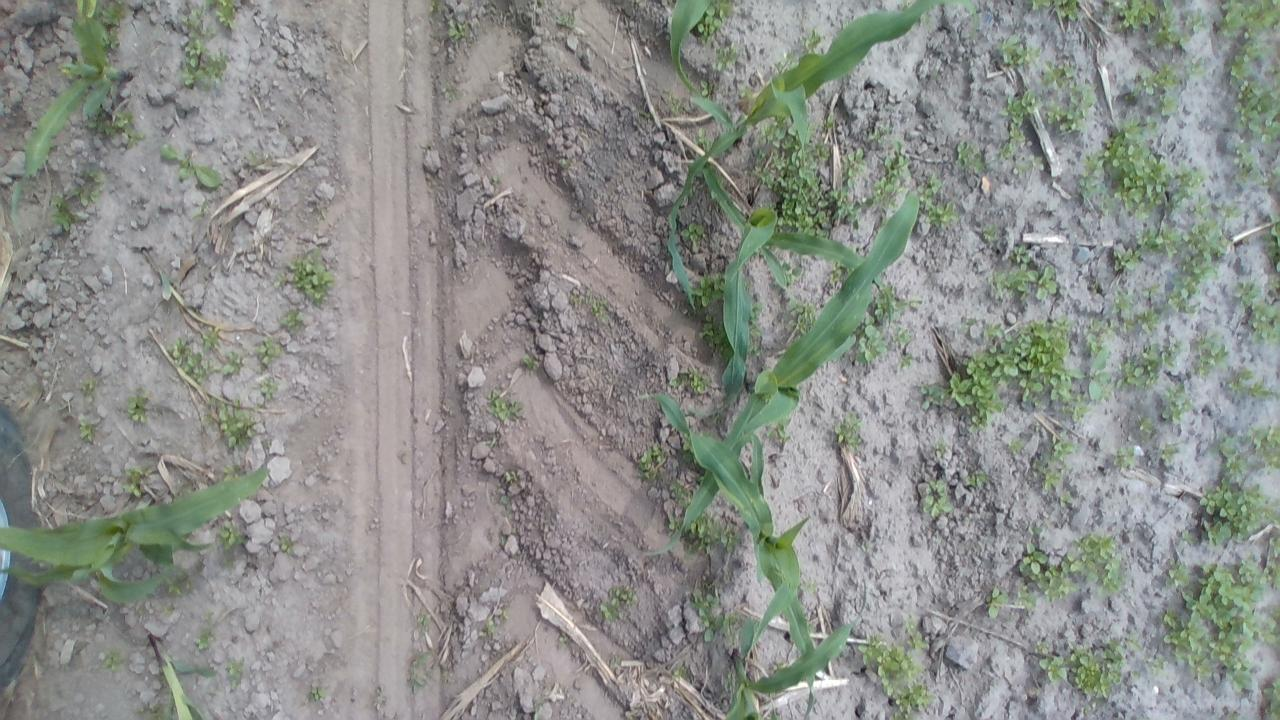Maize: (648, 189, 921, 551), (668, 0, 978, 311), (640, 394, 816, 714), (698, 166, 892, 410), (1, 458, 272, 602), (10, 0, 132, 234), (724, 620, 852, 720), (144, 330, 282, 420), (140, 248, 259, 344), (668, 0, 725, 94)
Weeds: (1160, 558, 1280, 691), (754, 117, 864, 234), (971, 320, 1070, 425), (1140, 224, 1228, 310), (1043, 534, 1125, 602), (1098, 133, 1176, 203), (1068, 637, 1142, 701), (1200, 480, 1280, 530), (182, 1, 222, 90), (1116, 342, 1186, 388), (200, 397, 258, 448), (1233, 278, 1278, 342), (162, 144, 224, 188), (1065, 350, 1119, 398), (998, 89, 1034, 159), (280, 256, 334, 300), (859, 642, 917, 682), (1048, 82, 1095, 131), (1222, 0, 1280, 39), (1239, 86, 1280, 140), (872, 144, 909, 198), (921, 371, 969, 410), (888, 683, 932, 720), (692, 592, 725, 640), (1112, 0, 1160, 31), (1234, 42, 1271, 82), (484, 389, 524, 425), (999, 37, 1039, 73), (599, 586, 636, 624), (68, 169, 104, 207), (1152, 0, 1182, 44), (1192, 341, 1228, 377), (168, 340, 206, 374), (1251, 425, 1280, 469), (918, 196, 958, 226), (1080, 320, 1115, 354), (840, 148, 870, 185), (1078, 156, 1105, 197), (702, 314, 736, 346), (923, 480, 954, 515), (1026, 267, 1058, 300), (1042, 60, 1074, 93), (1032, 0, 1080, 22), (1178, 165, 1208, 200), (1242, 158, 1278, 187), (1136, 65, 1176, 91), (1120, 112, 1160, 138), (212, 350, 244, 382), (837, 413, 868, 446), (1162, 393, 1196, 423), (691, 274, 724, 304), (876, 286, 904, 321), (955, 137, 985, 168), (696, 4, 729, 32), (1122, 309, 1160, 333), (902, 616, 929, 649), (1264, 536, 1280, 589), (1023, 540, 1049, 572), (49, 197, 73, 231), (857, 328, 885, 357), (1166, 558, 1192, 589), (640, 446, 664, 478), (126, 390, 150, 422), (1040, 655, 1067, 683), (1201, 520, 1229, 546), (227, 658, 253, 686), (253, 339, 281, 365), (1201, 435, 1233, 457), (86, 113, 130, 129), (215, 1, 241, 28), (125, 468, 148, 498), (1260, 682, 1280, 716), (1067, 393, 1090, 422), (793, 302, 818, 328), (690, 520, 714, 547), (665, 476, 689, 503), (1114, 243, 1138, 270), (1042, 467, 1064, 496), (1052, 435, 1076, 461), (1249, 378, 1280, 398), (1187, 8, 1210, 34), (1019, 152, 1046, 174), (1229, 366, 1249, 395), (1017, 583, 1036, 613), (1214, 198, 1242, 218), (984, 586, 1002, 617), (688, 367, 708, 394), (798, 32, 824, 52), (715, 518, 735, 544), (220, 520, 240, 546), (200, 328, 223, 350), (776, 417, 792, 448), (256, 379, 283, 397), (1190, 196, 1212, 218), (680, 220, 704, 240), (786, 260, 803, 286), (979, 223, 1001, 243), (919, 177, 942, 195), (1108, 446, 1132, 463), (1235, 144, 1252, 168), (716, 46, 740, 62), (666, 94, 684, 115), (992, 270, 1009, 292), (222, 466, 245, 482), (445, 19, 463, 39), (1160, 441, 1180, 459), (409, 670, 427, 690), (1159, 96, 1179, 113), (801, 578, 822, 594), (121, 128, 142, 144), (1226, 457, 1244, 475), (1134, 415, 1152, 433), (415, 608, 432, 627), (1009, 262, 1029, 277), (408, 654, 432, 666), (311, 682, 326, 701), (1015, 243, 1031, 260), (830, 264, 845, 282), (1132, 203, 1150, 218), (80, 425, 94, 444), (1269, 216, 1280, 240), (970, 472, 990, 485), (1012, 280, 1032, 293), (104, 652, 120, 668), (902, 350, 916, 368), (80, 382, 98, 396), (282, 312, 296, 330), (1032, 640, 1052, 652), (194, 635, 212, 648), (666, 513, 678, 532), (750, 303, 764, 319), (560, 8, 576, 22), (933, 443, 949, 457), (700, 76, 710, 98), (276, 540, 294, 552), (896, 333, 913, 345), (524, 356, 538, 370), (167, 577, 180, 592), (1114, 296, 1130, 308), (1190, 62, 1206, 74), (1008, 440, 1022, 450), (486, 620, 497, 632), (590, 304, 604, 313), (670, 375, 681, 385), (490, 176, 502, 185), (506, 470, 516, 479), (559, 633, 569, 641), (673, 668, 681, 678)
